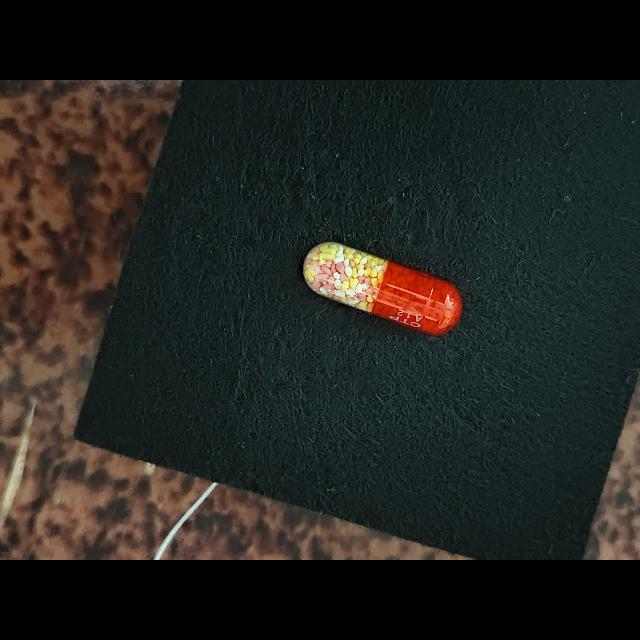Intact Capsule: (303, 242, 463, 335)
